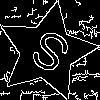S: (21, 27, 74, 84)
